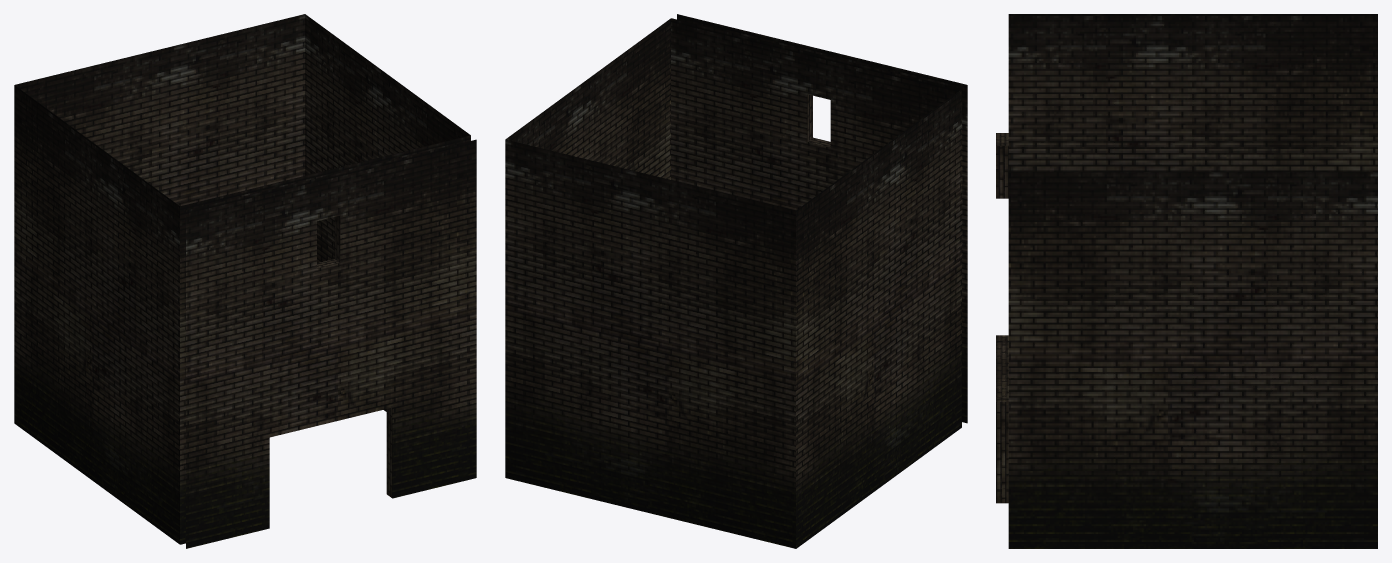
File: sewer room b1 wall.fbx
3 views of the same model, side by side, from view 1: azimuth 30°, elevation 25°; view 2: azimuth 150°, elevation 25°; view 3: azimuth 270°, elevation 25° (orthographic). The views are drawn at different scales.
Visible parts, largest first — view 1: pPlane3; view 2: pPlane3; view 3: pPlane3.
Boxes of the visible parts, x1,y1,x2,y2 form: pPlane3: (14,14,476,548); pPlane3: (505,14,967,548); pPlane3: (996,14,1377,548).
Size of the model in its own units: 1421 by 1581 by 1451.
